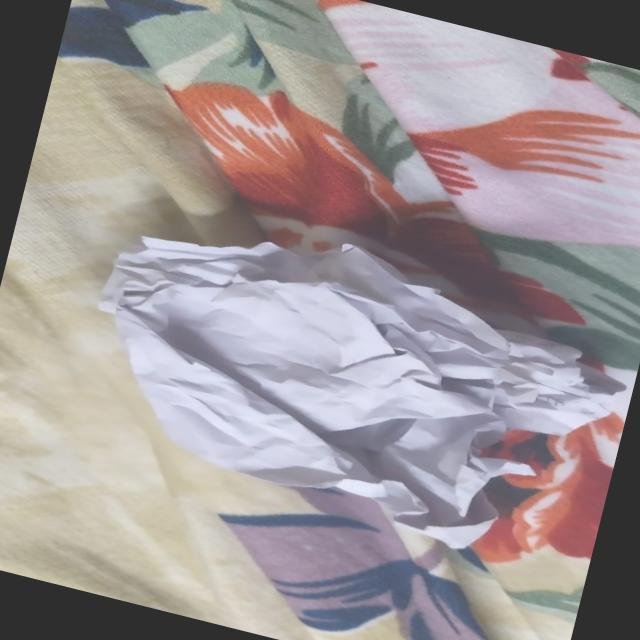Paper - Recyclable: (55, 185, 640, 579)
